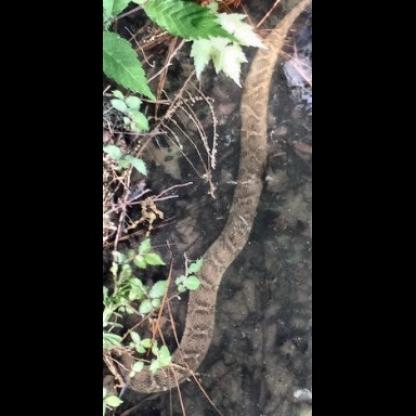Snake: (129, 6, 284, 416)
